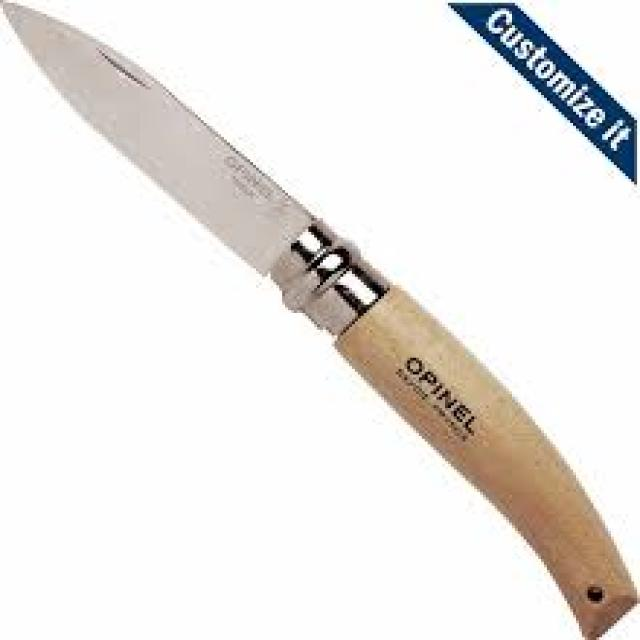knives: (11, 2, 442, 584)
